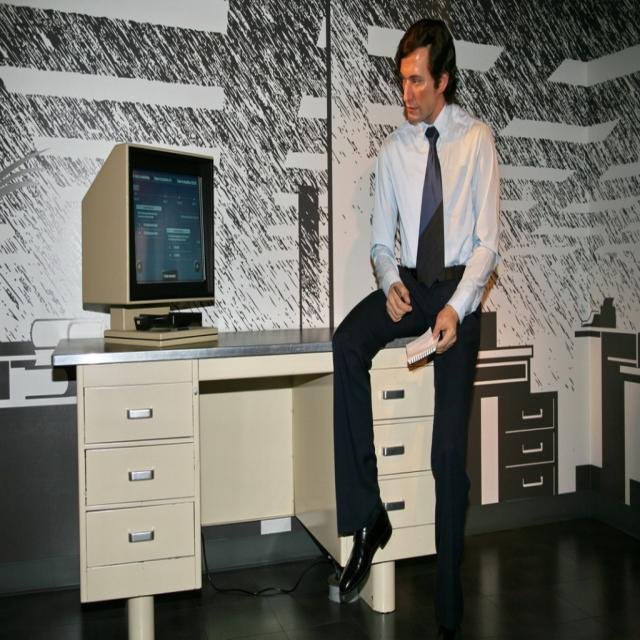desk: (51, 325, 435, 639)
person: (331, 12, 500, 618)
tv: (81, 144, 216, 310)
